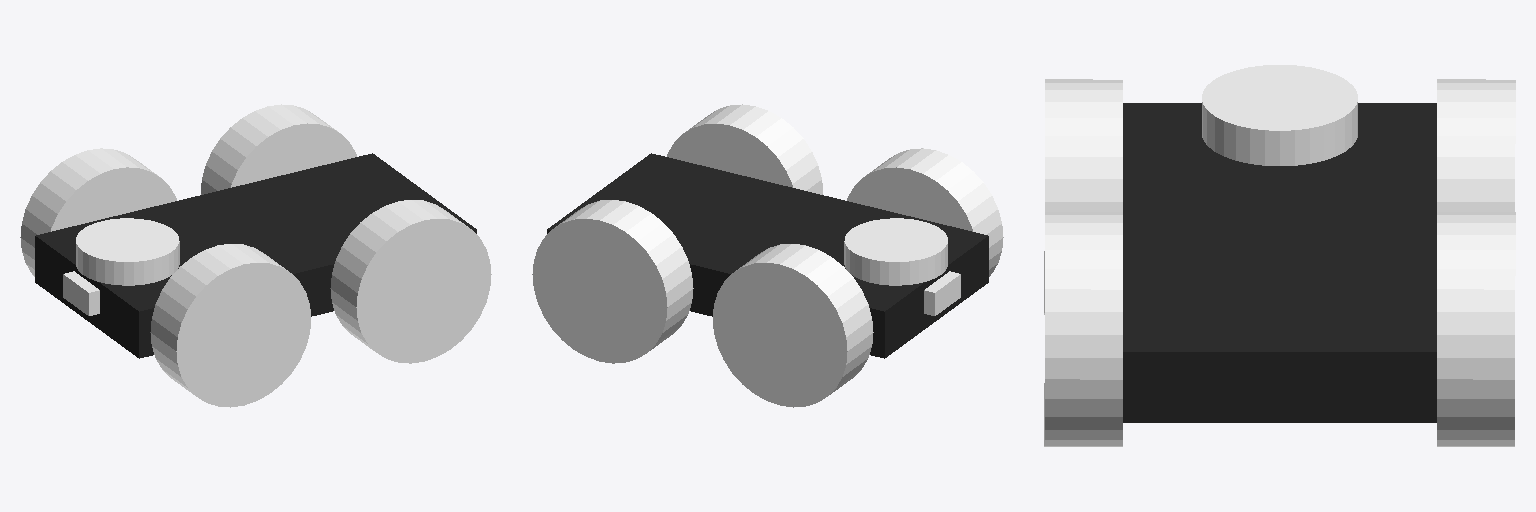
The robot description file, URDF, robot "three_wheeled_robot":
<?xml version="1.0" ?>
<robot name="three_wheeled_robot">
  <link name="base">
    <visual>
      <geometry>
        <box size="0.75 0.4 0.1"/>
      </geometry>
      <material name="gray">
        <color rgba=".2 .2 .2 1"/>
      </material>
    </visual>
    <inertial>
      <mass value="1"/>
      <inertia ixx="0.01" ixy="0.0" ixz="0" iyy="0.01" iyz="0" izz="0.01"/>
    </inertial>
    <collision>
      <geometry>
        <box size="0.75 0.4 0.1"/>
      </geometry>
    </collision>
  </link>

  <link name="rear_wheel_right_link">
    <inertial>
      <mass value="2"/>
      <inertia ixx="0.01" ixy="0.0" ixz="0" iyy="0.01" iyz="0" izz="0.01"/>
    </inertial>
    <visual>
      <geometry>
        <cylinder radius="0.15" length="0.1"/>
      </geometry>
      <material name="white">
        <color rgba="1 1 1 1"/>
      </material>
    </visual>
    <collision>
      <geometry>
        <cylinder radius="0.15" length="0.1"/>
      </geometry>
      <contact_coefficients mu="1" kp="1e+13" kd="1.0"/>
    </collision>
  </link>

  <joint name="rear_wheel_right_joint" type="continuous">
    <origin xyz="0.2 0.25 0.0" rpy="1.57 0.0 0.0"/>
    <parent link="base"/>
    <child link="rear_wheel_right_link"/>
    <axis xyz="0.0 0.0 1.0"/>
  </joint>

  <link name="front_wheel_right_link">
    <inertial>
      <mass value="2"/>
      <inertia ixx="0.01" ixy="0.0" ixz="0" iyy="0.01" iyz="0" izz="0.01"/>
    </inertial>
    <visual>
      <geometry>
        <cylinder radius="0.15" length="0.1"/>
      </geometry>
      <material name="white">
        <color rgba="1 1 1 1"/>
      </material>
    </visual>
    <collision>
      <geometry>
        <cylinder radius="0.15" length="0.1"/>
      </geometry>
      <contact_coefficients mu="1" kp="1e+13" kd="1.0"/>
    </collision>
  </link>

  <joint name="front_wheel_right_joint" type="continuous">
    <origin xyz="-0.2 0.25 0.0" rpy="1.57 0.0 0.0"/>
    <parent link="base"/>
    <child link="front_wheel_right_link"/>
    <axis xyz="0.0 0.0 1.0"/>
  </joint>

  <link name="rear_wheel_left_link">
    <inertial>
      <mass value="2"/>
      <inertia ixx="0.01" ixy="0.0" ixz="0" iyy="0.01" iyz="0" izz="0.01"/>
    </inertial>
    <visual>
      <geometry>
        <cylinder radius="0.15" length="0.1"/>
      </geometry>
      <material name="white">
        <color rgba="1 1 1 1"/>
      </material>
    </visual>
    <collision>
      <geometry>
        <cylinder radius="0.15" length="0.1"/>
      </geometry>
      <contact_coefficients mu="1" kp="1e+13" kd="1.0"/>
    </collision>
  </link>

  <joint name="rear_wheel_left_joint" type="continuous">
    <origin xyz="0.2 -0.25 0.0" rpy="1.57 0.0 0.0"/>
    <parent link="base"/>
    <child link="rear_wheel_left_link"/>
    <axis xyz="0.0 0.0 1.0"/>
  </joint>

  <link name="front_wheel_left_link">
    <inertial>
      <mass value="2"/>
      <inertia ixx="0.01" ixy="0.0" ixz="0" iyy="0.01" iyz="0" izz="0.01"/>
    </inertial>
    <visual>
      <geometry>
        <cylinder radius="0.15" length="0.1"/>
      </geometry>
      <material name="white">
        <color rgba="1 1 1 1"/>
      </material>
    </visual>
    <collision>
      <geometry>
        <cylinder radius="0.15" length="0.1"/>
      </geometry>
      <contact_coefficients mu="1" kp="1e+13" kd="1.0"/>
    </collision>
  </link>

  <joint name="front_wheel_left_joint" type="continuous">
    <origin xyz="-0.2 -0.25 0.0" rpy="1.57 0.0 0.0"/>
    <parent link="base"/>
    <child link="front_wheel_left_link"/>
    <axis xyz="0.0 0.0 1.0"/>
  </joint>

  <link name="camera">
    <inertial>
      <mass value="0.1"/>
      <inertia ixx="0.01" ixy="0.0" ixz="0" iyy="0.01" iyz="0" izz="0.01"/>
    </inertial>
    <visual>
      <geometry>
        <box size="0.1 0.1 0.05"/>
      </geometry>
      <material name="white">
        <color rgba="1 1 1 1"/>
      </material>
    </visual>
    <collision>
      <geometry>
        <box size="0.1 0.1 0.05"/>
      </geometry>
    </collision>
  </link>

  <joint name="camera_joint" type="fixed">
    <origin xyz="-0.35 0 0.01" rpy="0 0.0 3.14"/>
    <parent link="base"/>
    <child link="camera"/>
    <axis xyz="0.0 0.0 1.0"/>
  </joint>

  <link name="lidar">
    <inertial>
      <mass value="0.5"/>
      <inertia ixx="0.01" ixy="0.0" ixz="0" iyy="0.01" iyz="0" izz="0.01"/>
    </inertial>
    <visual>
      <geometry>
        <cylinder radius="0.1" length="0.05"/>
      </geometry>
      <material name="white">
        <color rgba="1 1 1 1"/>
      </material>
    </visual>
    <collision>
      <geometry>
        <box size="0.1 0.1 0.1"/>
      </geometry>
    </collision>
  </link>

  <joint name="lidar_joint" type="fixed">
    <origin xyz="-0.285 0 0.075" rpy="0 0.0 1.57"/>
    <parent link="base"/>
    <child link="lidar"/>
    <axis xyz="0.0 0.0 1.0"/>
  </joint>

  <!-- Material Assignments -->
  <gazebo reference="base">
    <material>Gazebo/WhiteGlow</material>
  </gazebo>
  <gazebo reference="rear_wheel_left_link">
    <material>Gazebo/SkyBlue</material>
  </gazebo>
  <gazebo reference="rear_wheel_right_link">
    <material>Gazebo/SkyBlue</material>
  </gazebo>
  <gazebo reference="front_wheel_left_link">
    <material>Gazebo/SkyBlue</material>
  </gazebo>
  <gazebo reference="front_wheel_right_link">
    <material>Gazebo/SkyBlue</material>
  </gazebo>
  <gazebo reference="lidar">
    <material>Gazebo/Blue</material>
  </gazebo>
  <gazebo reference="camera">
    <material>Gazebo/Red</material>
  </gazebo>

  <!-- Differential Drive Plugin -->
  <gazebo>
    <plugin filename="libgazebo_ros_diff_drive.so" name="gazebo_base_controller">
      <odometry_frame>odom</odometry_frame>
      <commandTopic>cmd_vel</commandTopic>
      <publish_odom>true</publish_odom>
      <publish_odom_tf>true</publish_odom_tf>
      <update_rate>15.0</update_rate>
      <left_joint>rear_wheel_left_joint</left_joint>
      <right_joint>rear_wheel_right_joint</right_joint>
      <wheel_separation>0.5</wheel_separation>
      <wheel_diameter>0.3</wheel_diameter>
      <max_wheel_acceleration>0.7</max_wheel_acceleration>
      <max_wheel_torque>8</max_wheel_torque>
      <robotBaseFrame>base</robotBaseFrame>
    </plugin>
  </gazebo>

  <!-- Camera Plugin -->
  <gazebo reference="camera">
    <sensor type="camera" name="camera1">
      <visualize>true</visualize>
      <update_rate>30.0</update_rate>
      <camera name="head">
        <horizontal_fov>1.3962634</horizontal_fov>
        <image>
          <width>800</width>
          <height>800</height>
          <format>R8G8B8</format>
        </image>
        <clip>
          <near>0.02</near>
          <far>300</far>
        </clip>
      </camera>
      <plugin name="camera_controller" filename="libgazebo_ros_camera.so">
        <alwaysOn>true</alwaysOn>
        <updateRate>60.0</updateRate>
        <cameraName>/camera1</cameraName>
        <imageTopicName>image_raw</imageTopicName>
        <cameraInfoTopicName>info_camera</cameraInfoTopicName>
        <frameName>camera</frameName>
        <hackBaseline>0.07</hackBaseline>
      </plugin>
    </sensor>
  </gazebo>

  <!-- Lidar Plugin -->
  <gazebo reference="lidar">
    <sensor name="lidar" type="ray">
      <visualize>true</visualize>
      <update_rate>12.0</update_rate>
      <plugin filename="libgazebo_ros_ray_sensor.so" name="gazebo_lidar">
        <output_type>sensor_msgs/LaserScan</output_type>
        <frame_name>lidar</frame_name>
      </plugin>
      <ray>
        <scan>
          <horizontal>
            <samples>360</samples>
            <resolution>1</resolution>
            <min_angle>0.00</min_angle>
            <max_angle>3.14</max_angle>
          </horizontal>
        </scan>
        <range>
          <min>0.120</min>
          <max>3.5</max>
          <resolution>0.015</resolution>
        </range>
      </ray>
    </sensor>
  </gazebo>
</robot>

--- Render facts (derived) ---
3 views of the same robot in one strip: view 1: azimuth 30°, elevation 25°; view 2: azimuth 150°, elevation 25°; view 3: azimuth 270°, elevation 25° (orthographic).
Robot: three_wheeled_robot — 7 links, 6 joints (4 continuous, 2 fixed); root link base; default pose: every joint at zero.
Links seen in each view (by area): view 1: base, rear_wheel_left_link, front_wheel_left_link, front_wheel_right_link, rear_wheel_right_link, lidar, camera; view 2: base, rear_wheel_right_link, front_wheel_right_link, front_wheel_left_link, rear_wheel_left_link, lidar, camera; view 3: base, rear_wheel_right_link, rear_wheel_left_link, lidar, front_wheel_right_link, front_wheel_left_link.
Link boxes in pixels (box(x1,y1,x2,y2)): base: box(35, 153, 476, 358); rear_wheel_left_link: box(330, 200, 491, 363); front_wheel_left_link: box(150, 244, 310, 407); front_wheel_right_link: box(20, 148, 176, 276); rear_wheel_right_link: box(201, 104, 356, 194); lidar: box(76, 218, 179, 285); camera: box(63, 271, 99, 315); base: box(547, 153, 988, 358); rear_wheel_right_link: box(532, 200, 693, 363); front_wheel_right_link: box(713, 244, 873, 407); front_wheel_left_link: box(847, 148, 1003, 276); rear_wheel_left_link: box(667, 104, 822, 194); lidar: box(844, 218, 947, 285); camera: box(924, 271, 960, 315); base: box(1123, 103, 1436, 422); rear_wheel_right_link: box(1437, 212, 1515, 446); rear_wheel_left_link: box(1044, 212, 1122, 446); lidar: box(1202, 65, 1357, 165); front_wheel_right_link: box(1437, 79, 1515, 211); front_wheel_left_link: box(1044, 79, 1122, 314).
Bounding box of the posed robot: 0.7751 × 0.6002 × 0.3001 m (x, y, z).
Geometry: primitives only (box / cylinder / sphere), no mesh files.
